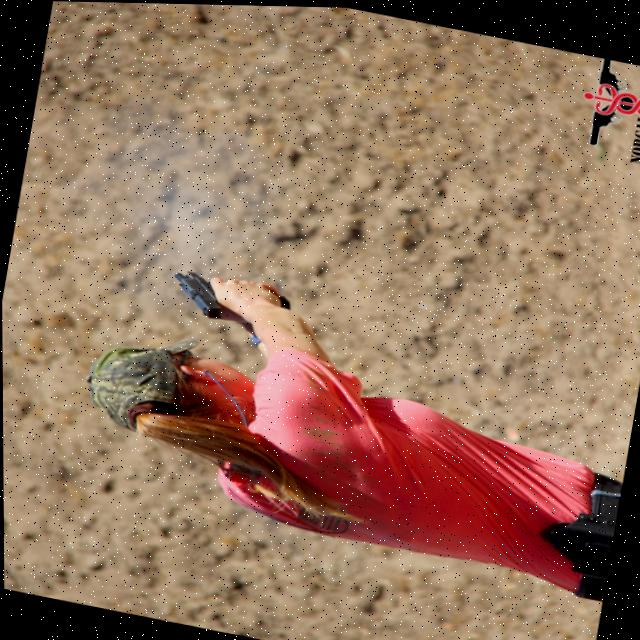pistol: (166, 268, 236, 321)
